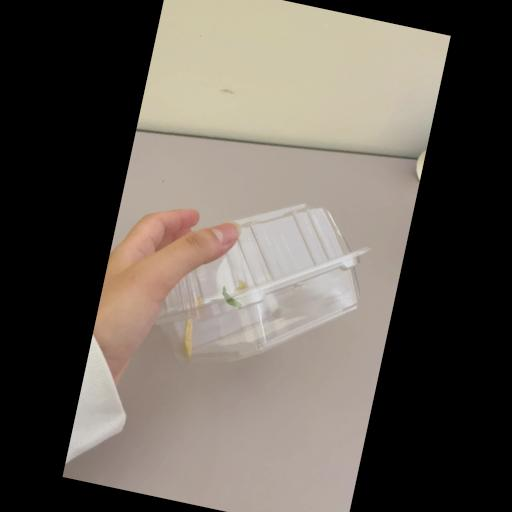small_plastic_container: (148, 178, 382, 390)
